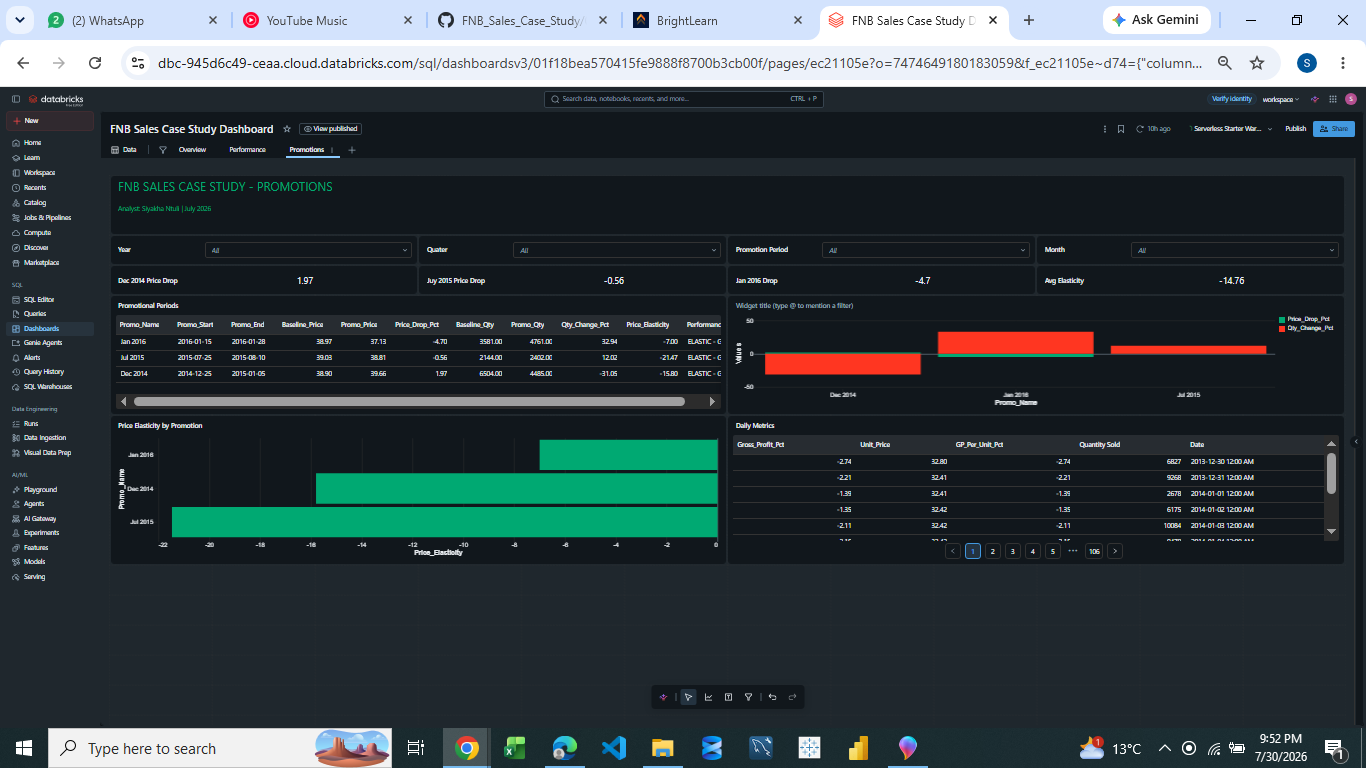

Layout of this report page (visuals, bound fields, positions):
{"tool":"powerbi","page":{"name":"Promotions","canvas":[1280,800],"ordinal":2},"visuals":[{"type":"textbox","box":[0,0,1280,123.8],"z":1},{"type":"slicer","title":"Select Year","fields":{"Values":["FNB_POWER__BI (1).Year"]},"box":[0,132.5,315,107.5],"z":2},{"type":"slicer","title":"Select Quater","fields":{"Values":["FNB_POWER__BI (1).Quarter"]},"box":[315,132.5,293.8,107.5],"z":3},{"type":"slicer","title":"Selet Promo","fields":{"Values":["FNB_POWER__BI (1).Promo_Name"]},"box":[608.8,132.5,333.8,107.5],"z":4},{"type":"slicer","title":"Select  Day","fields":{"Values":["FNB_POWER__BI (1).Promo_Name.Variation.Date Hierarchy.Day"]},"box":[942.5,132.5,337.5,107.5],"z":5},{"type":"cardVisual","title":"Dec 2014 Drop","fields":{"Data":["Max(FNB_POWER__BI (1).Dec_2014_Drop)"]},"box":[0,240,315,97.5],"z":6},{"type":"cardVisual","title":"Jul 2015 Drop","fields":{"Data":["Max(FNB_POWER__BI (1).Jul_2015_Drop)"]},"box":[315,240,315,97.5],"z":7},{"type":"tableEx","title":"Promotional Periods Table","fields":{"Values":["FNB_POWER__BI (1).Promo_Name.Variation.Date Hierarchy.Year","FNB_POWER__BI (1).Promo_Name.Variation.Date Hierarchy.Quarter","Sum(FNB_POWER__BI (1).Price_Drop_Pct)","Sum(FNB_POWER__BI (1).Qty_Change_Pct)","Sum(FNB_POWER__BI (1).Price_Elasticity)","FNB_POWER__BI (1).Performance"]},"box":[0,353.8,630,203.8],"z":8},{"type":"columnChart","title":"Promotion Impact","fields":{"Category":["FNB_POWER__BI (1).Promo_Name.Variation.Date Hierarchy.Year","FNB_POWER__BI (1).Promo_Name.Variation.Date Hierarchy.Quarter"],"Y":["Max(FNB_POWER__BI (1).Price_Drop_Pct)","Max(FNB_POWER__BI (1).Qty_Change_Pct)"]},"box":[640,353.8,630,203.8],"z":9},{"type":"columnChart","title":"Price Elasticity Bar Chart","fields":{"Category":["FNB_POWER__BI (1).Promo_Name.Variation.Date Hierarchy.Year","FNB_POWER__BI (1).Promo_Name.Variation.Date Hierarchy.Quarter"],"Y":["Max(FNB_POWER__BI (1).Price_Elasticity)"]},"box":[0,567.5,630,203.8],"z":10},{"type":"tableEx","title":"Daily Metrics Table","fields":{"Values":["FNB_POWER__BI (1).Date.Variation.Date Hierarchy.Quarter","FNB_POWER__BI (1).Date.Variation.Date Hierarchy.Day","Sum(FNB_POWER__BI (1).Unit_Price)","Sum(FNB_POWER__BI (1).Gross_Profit_Pct)","Sum(FNB_POWER__BI (1).GP_Per_Unit_Pct)","Sum(FNB_POWER__BI (1).Quantity Sold)"]},"box":[640,567.5,630,203.8],"z":11},{"type":"cardVisual","title":"Jan 2016 Drop","fields":{"Data":["Max(FNB_POWER__BI (1).Jan_2016_Drop)"]},"box":[630,240,300,97.5],"z":12},{"type":"cardVisual","title":"Avg Easticity","fields":{"Data":["Max(FNB_POWER__BI (1).Avg_Elasticity)"]},"box":[930,240,350,97.5],"z":13}]}

Visuals, with their boxes on the page's 1280x800 design canvas (x1, y1, x2, y2). These are canvas units, not pixel positions in the 1366x768 screenshot, which may show the page scaled, cropped or inside an application window:
textbox: BBox(0, 0, 1280, 124)
"Select Year" slicer: BBox(0, 132, 315, 240)
"Select Quater" slicer: BBox(315, 132, 609, 240)
"Selet Promo" slicer: BBox(609, 132, 943, 240)
"Select  Day" slicer: BBox(942, 132, 1280, 240)
"Dec 2014 Drop" cardVisual: BBox(0, 240, 315, 338)
"Jul 2015 Drop" cardVisual: BBox(315, 240, 630, 338)
"Promotional Periods Table" tableEx: BBox(0, 354, 630, 558)
"Promotion Impact" columnChart: BBox(640, 354, 1270, 558)
"Price Elasticity Bar Chart" columnChart: BBox(0, 568, 630, 771)
"Daily Metrics Table" tableEx: BBox(640, 568, 1270, 771)
"Jan 2016 Drop" cardVisual: BBox(630, 240, 930, 338)
"Avg Easticity" cardVisual: BBox(930, 240, 1280, 338)
